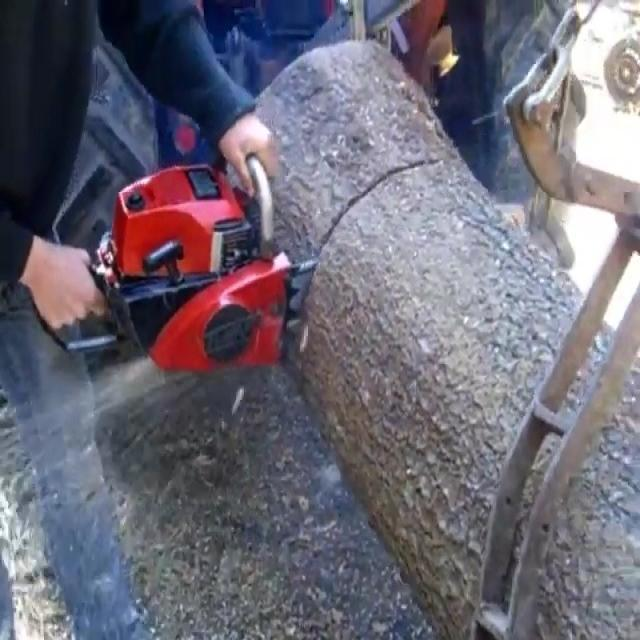Chainsaw: (28, 144, 333, 364)
